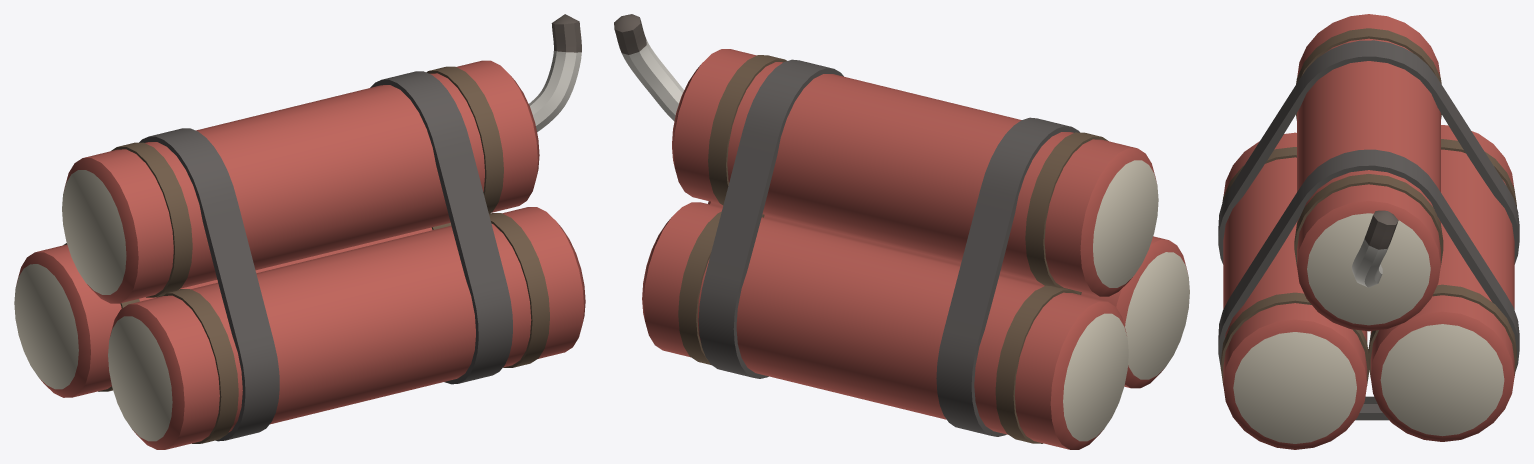
Rendered from dynamite_b_bundle_red.glb.
3 renders of one model, left to right at view 1: azimuth 30°, elevation 25°; view 2: azimuth 150°, elevation 25°; view 3: azimuth 270°, elevation 25°, orthographic. The views are drawn at different scales.
Parts seen in each view (by area): view 1: Dynamite; view 2: Dynamite; view 3: Dynamite.
Boxes of the visible parts, bbox=[...] form: Dynamite: bbox=[14, 14, 585, 449]; Dynamite: bbox=[614, 14, 1189, 449]; Dynamite: bbox=[1218, 14, 1519, 449].
Size of the model in its own units: 0.6557 by 0.3581 by 0.3558.
